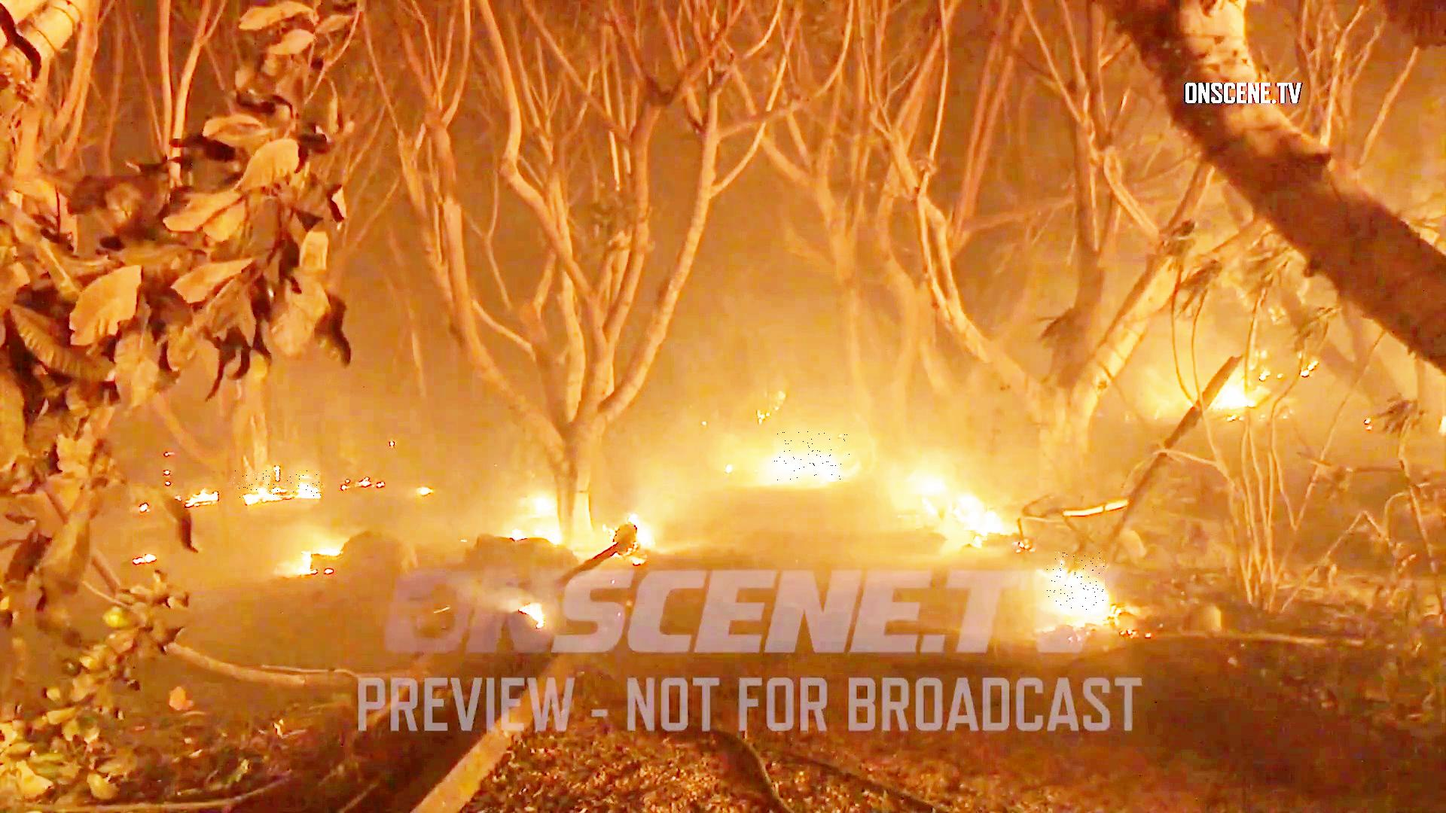fire: (934, 469, 987, 541), (774, 431, 850, 480), (1047, 552, 1105, 610), (234, 471, 322, 499)
